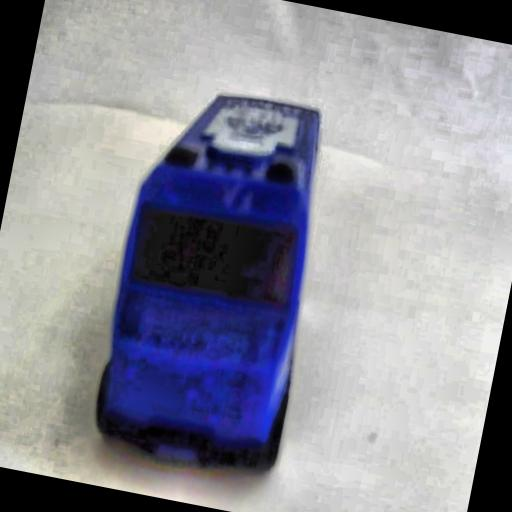police car: (78, 67, 360, 492)
